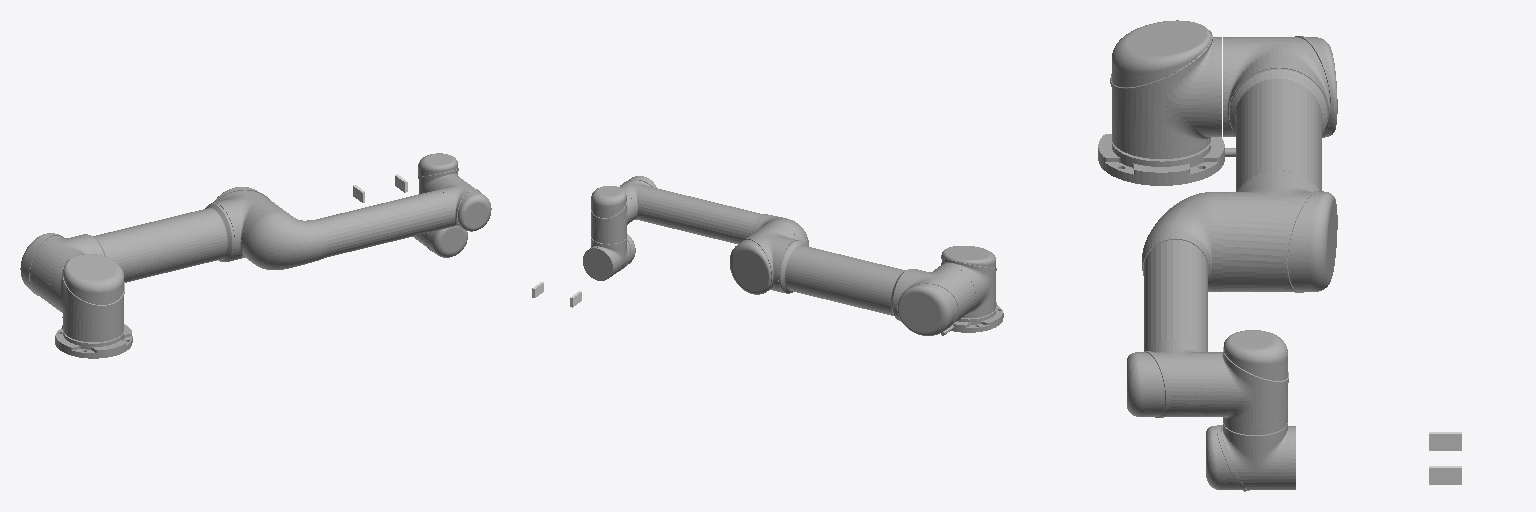
The robot description file, URDF, robot "ur5_robotiq_gripper":
<?xml version="1.0" encoding="utf-8"?>
<!-- =================================================================================== -->
<!-- |    This document was autogenerated by xacro from urdf/ur5_robotiq85_gripper.urdf.xacro | -->
<!-- |    EDITING THIS FILE BY HAND IS NOT RECOMMENDED                                 | -->
<!-- =================================================================================== -->
<robot name="ur5_robotiq_gripper">
  <mujoco>
    <compiler balanceinertia="true" discardvisual="false" meshdir="meshes_mujoco/"/>
  </mujoco>
  <!-- measured from model -->
  <link name="base_link">
    <visual>
      <origin rpy="0 0 3.14159265359" xyz="0 0 0"/>
      <geometry>
        <mesh filename="./base_visual.stl"/>
      </geometry>
      <material name="LightGrey">
        <color rgba="0.7 0.7 0.7 1.0"/>
      </material>
    </visual>
    <collision>
      <origin rpy="0 0 3.14159265359" xyz="0 0 0"/>
      <geometry>
        <mesh filename="./base.stl"/>
      </geometry>
    </collision>
    <inertial>
      <mass value="4.0"/>
      <origin rpy="0 0 0" xyz="0.0 0.0 0.0"/>
      <inertia ixx="0.00443333156" ixy="0.0" ixz="0.0" iyy="0.00443333156" iyz="0.0" izz="0.0072"/>
    </inertial>
  </link>
  <joint name="shoulder_pan_joint" type="revolute">
    <parent link="base_link"/>
    <child link="shoulder_link"/>
    <origin rpy="0 0 3.14159265359" xyz="0 0 0.089159"/>
    <axis xyz="0 0 1"/>
    <limit effort="150.0" lower="-3.14159265359" upper="3.14159265359" velocity="3.15"/>
    <dynamics damping="0.0" friction="0.0"/>
  </joint>
  <link name="shoulder_link">
    <visual>
      <origin rpy="0 0 3.14159265359" xyz="0 0 0"/>
      <geometry>
        <mesh filename="./shoulder_visual.stl"/>
      </geometry>
      <material name="LightGrey">
        <color rgba="0.7 0.7 0.7 1.0"/>
      </material>
    </visual>
    <collision>
      <origin rpy="0 0 3.14159265359" xyz="0 0 0"/>
      <geometry>
        <mesh filename="./shoulder.stl"/>
      </geometry>
    </collision>
    <inertial>
      <mass value="3.7"/>
      <origin rpy="0 0 0" xyz="0.0 0.0 0.0"/>
      <inertia ixx="0.0149723523444" ixy="0.0" ixz="0.0" iyy="0.0149723523444" iyz="0.0" izz="0.01040625"/>
    </inertial>
  </link>
  <joint name="shoulder_lift_joint" type="revolute">
    <parent link="shoulder_link"/>
    <child link="upper_arm_link"/>
    <origin rpy="1.570796327 0 0" xyz="0 0 0"/>
    <axis xyz="0 0 1"/>
    <limit effort="150.0" lower="-3.14159265359" upper="3.14159265359" velocity="3.15"/>
    <dynamics damping="0.0" friction="0.0"/>
  </joint>
  <link name="upper_arm_link">
    <visual>
      <origin rpy="1.57079632679 0 -1.57079632679" xyz="0 0 0.136"/>
      <geometry>
        <mesh filename="./upperarm_visual.stl"/>
      </geometry>
      <material name="LightGrey">
        <color rgba="0.7 0.7 0.7 1.0"/>
      </material>
    </visual>
    <collision>
      <origin rpy="1.57079632679 0 -1.57079632679" xyz="0 0 0.136"/>
      <geometry>
        <mesh filename="./upperarm.stl"/>
      </geometry>
    </collision>
    <inertial>
      <mass value="8.393"/>
      <origin rpy="0 1.57079632679 0" xyz="-0.2125 0.0 0.136"/>
      <inertia ixx="0.133885781862" ixy="0.0" ixz="0.0" iyy="0.133885781862" iyz="0.0" izz="0.0151074"/>
    </inertial>
  </link>
  <joint name="elbow_joint" type="revolute">
    <parent link="upper_arm_link"/>
    <child link="forearm_link"/>
    <origin rpy="0 0 0" xyz="-0.425 0 0"/>
    <axis xyz="0 0 1"/>
    <limit effort="150.0" lower="-3.14159265359" upper="3.14159265359" velocity="3.15"/>
    <dynamics damping="0.0" friction="0.0"/>
  </joint>
  <link name="forearm_link">
    <visual>
      <origin rpy="1.57079632679 0 -1.57079632679" xyz="0 0 0.0165"/>
      <geometry>
        <mesh filename="./forearm_visual.stl"/>
      </geometry>
      <material name="LightGrey">
        <color rgba="0.7 0.7 0.7 1.0"/>
      </material>
    </visual>
    <collision>
      <origin rpy="1.57079632679 0 -1.57079632679" xyz="0 0 0.0165"/>
      <geometry>
        <mesh filename="./forearm.stl"/>
      </geometry>
    </collision>
    <inertial>
      <mass value="2.275"/>
      <origin rpy="0 1.57079632679 0" xyz="-0.2125 0.0 0.0165"/>
      <inertia ixx="0.0312167910289" ixy="0.0" ixz="0.0" iyy="0.0312167910289" iyz="0.0" izz="0.004095"/>
    </inertial>
  </link>
  <joint name="wrist_1_joint" type="revolute">
    <parent link="forearm_link"/>
    <child link="wrist_1_link"/>
    <origin rpy="0 0 0" xyz="-0.39225 0 0.10915"/>
    <axis xyz="0 0 1"/>
    <limit effort="28.0" lower="-3.14159265359" upper="3.14159265359" velocity="3.2"/>
    <dynamics damping="0.0" friction="0.0"/>
  </joint>
  <link name="wrist_1_link">
    <visual>
      <origin rpy="1.57079632679 0 0" xyz="0 0 -0.093"/>
      <geometry>
        <mesh filename="./wrist1_visual.stl"/>
      </geometry>
      <material name="LightGrey">
        <color rgba="0.7 0.7 0.7 1.0"/>
      </material>
    </visual>
    <collision>
      <origin rpy="1.57079632679 0 0" xyz="0 0 -0.093"/>
      <geometry>
        <mesh filename="./wrist1.stl"/>
      </geometry>
    </collision>
    <inertial>
      <mass value="1.219"/>
      <origin rpy="0 0 0" xyz="0.0 0.0 0.0"/>
      <inertia ixx="0.00262426443592" ixy="0.0" ixz="0.0" iyy="0.00262426443592" iyz="0.0" izz="0.0034284375"/>
    </inertial>
  </link>
  <joint name="wrist_2_joint" type="revolute">
    <parent link="wrist_1_link"/>
    <child link="wrist_2_link"/>
    <origin rpy="1.570796327 0 0" xyz="0 -0.09465 -1.9413039509e-11"/>
    <axis xyz="0 0 1"/>
    <limit effort="28.0" lower="-3.14159265359" upper="3.14159265359" velocity="3.2"/>
    <dynamics damping="0.0" friction="0.0"/>
  </joint>
  <link name="wrist_2_link">
    <visual>
      <origin rpy="0 0 0" xyz="0 0 -0.095"/>
      <geometry>
        <mesh filename="./wrist2_visual.stl"/>
      </geometry>
      <material name="LightGrey">
        <color rgba="0.7 0.7 0.7 1.0"/>
      </material>
    </visual>
    <collision>
      <origin rpy="0 0 0" xyz="0 0 -0.095"/>
      <geometry>
        <mesh filename="./wrist2.stl"/>
      </geometry>
    </collision>
    <inertial>
      <mass value="1.219"/>
      <origin rpy="0 0 0" xyz="0.0 0.0 0.0"/>
      <inertia ixx="0.00178515266177" ixy="0.0" ixz="0.0" iyy="0.00178515266177" iyz="0.0" izz="0.0021942"/>
    </inertial>
  </link>
  <joint name="wrist_3_joint" type="revolute">
    <parent link="wrist_2_link"/>
    <child link="wrist_3_link"/>
    <origin rpy="1.57079632659 3.14159265359 3.14159265359" xyz="0 0.0823 -1.68800121668e-11"/>
    <axis xyz="0 0 1"/>
    <limit effort="28.0" lower="-3.14159265359" upper="3.14159265359" velocity="3.2"/>
    <dynamics damping="0.0" friction="0.0"/>
  </joint>
  <link name="wrist_3_link">
    <visual>
      <origin rpy="1.57079632679 0 0" xyz="0 0 -0.0818"/>
      <geometry>
        <mesh filename="./wrist3_visual.stl"/>
      </geometry>
      <material name="LightGrey">
        <color rgba="0.7 0.7 0.7 1.0"/>
      </material>
    </visual>
    <collision>
      <origin rpy="1.57079632679 0 0" xyz="0 0 -0.0823"/>
      <geometry>
        <mesh filename="./wrist3.stl"/>
      </geometry>
    </collision>
    <inertial>
      <mass value="0.1879"/>
      <origin rpy="0 0 0" xyz="0.0 0.0 -0.01525"/>
      <inertia ixx="8.06247260834e-05" ixy="0.0" ixz="0.0" iyy="8.06247260834e-05" iyz="0.0" izz="0.0001321171875"/>
    </inertial>
  </link>
  <!--
  <joint name="ee_fixed_joint" type="fixed">
    <parent link="wrist_3_link"/>
    <child link="ee_link"/>
    <origin rpy="0.0 -1.57079632679 1.57079632679" xyz="0.0 0.0 0.0"/>
  </joint>
  <link name="ee_link">
    <collision>
      <geometry>
        <box size="0.01 0.01 0.01"/>
      </geometry>
      <origin rpy="0 0 0" xyz="-0.01 0 0"/>
    </collision>
  </link>
  -->
  <joint name="wrist_3_passive_joint" type="fixed">
    <origin rpy="0 0 0" xyz="0 0 0"/>
    <parent link="wrist_3_link"/>
    <child link="tool0"/>
  </joint>
  <!-- ROS base_link to UR 'Base' Coordinates transform -->
  <link name="base"/>
  <joint name="base_link-base_fixed_joint" type="fixed">
    <!-- NOTE: this rotation is only needed as long as base_link itself is
                 not corrected wrt the real robot (ie: rotated over 180
                 degrees)
      -->
    <origin rpy="0 0 -3.14159265359" xyz="0 0 0"/>
    <parent link="base_link"/>
    <child link="base"/>
  </joint>
  <!-- Frame coincident with all-zeros TCP on UR controller -->
  <link name="tool0"/>
  <link name="robotiq_coupler">
    <visual>
      <geometry>
        <mesh filename="./robotiq_gripper_coupling.stl" scale="0.001 0.001 0.001"/>
      </geometry>
      <material name="flat_black"/>
    </visual>
    <collision>
      <geometry>
        <!--<box size="0 0 0"/>-->
        <box size="0.01 0.01 0.01"/>
      </geometry>
    </collision>
    <inertial>
      <origin rpy="0 0 0" xyz="2.073e-05   1.45286e-03  -1.1049e-03"/>
      <mass value="0.168"/>
      <inertia ixx="6.69695624e-05" ixy="5.21511788e-09" ixz="-2.74383009e-08" iyy="7.85088161e-05" iyz="5.41105193e-07" izz="1.41819717e-04"/>
    </inertial>
  </link>
  <joint name="robotiq_coupler_joint" type="fixed">
    <origin rpy="0 0 -1.57079632679" xyz="0 0 0.004"/>
    <parent link="tool0"/>
    <child link="robotiq_coupler"/>
  </joint>
  <link name="robotiq_arg2f_base_link">
    <inertial>
      <origin rpy="0 0 0" xyz="8.625E-08 -4.6583E-06 0.03145"/>
      <mass value="0.22652"/>
      <inertia ixx="0.00020005" ixy="-4.2442E-10" ixz="-2.9069E-10" iyy="0.00017832" iyz="-3.4402E-08" izz="0.00013478"/>
    </inertial>
    <visual>
      <origin rpy="0 0 0" xyz="0 0 0"/>
      <geometry>
        <mesh filename="./gripper_base_visual.stl" scale="0.001 0.001 0.001"/>
      </geometry>
      <material name="">
        <color rgba="0.1 0.1 0.1 1"/>
      </material>
    </visual>
    <collision>
      <origin rpy="0 0 0" xyz="0 0 0"/>
      <geometry>
        <mesh filename="./robotiq_arg2f_85_base_link.stl"/>
      </geometry>
    </collision>
  </link>
  <link name="left_outer_knuckle">
    <inertial>
      <origin rpy="0 0 0" xyz="-0.000200000000003065 0.0199435877845359 0.0292245259211331"/>
      <mass value="0.00853198276973456"/>
      <inertia ixx="2.89328108496468E-06" ixy="-1.57935047237397E-19" ixz="-1.93980378593255E-19" iyy="1.86719750325683E-06" iyz="-1.21858577871576E-06" izz="1.21905238907251E-06"/>
    </inertial>
    <visual>
      <origin rpy="-1.57079632679 0 0" xyz="0 0 0"/>
      <geometry>
        <mesh filename="./outer_knuckle_visual.stl" scale="0.001 0.001 0.001"/>
      </geometry>
      <material name="">
        <color rgba="0.792156862745098 0.819607843137255 0.933333333333333 1"/>
      </material>
    </visual>
    <collision>
      <origin rpy="0 0 0" xyz="0 0 0"/>
      <geometry>
        <!--<mesh filename="package://robotiq_2f_85_gripper_gazebo/meshes/collision/robotiq_arg2f_85_outer_knuckle.stl" scale="0.001 0.001 0.001"/>
          -->
        <!--<box size="0 0 0"/>-->
        <box size="0.01 0.01 0.01"/>
      </geometry>
    </collision>
  </link>
  <link name="left_outer_finger">
    <inertial>
      <origin rpy="0 0 0" xyz="0.00030115855001899 0.0373907951953854 -0.0208027427000385"/>
      <mass value="0.022614240507152"/>
      <inertia ixx="1.52518312458174E-05" ixy="9.76583423954399E-10" ixz="-5.43838577022588E-10" iyy="6.17694243867776E-06" iyz="6.78636130740228E-06" izz="1.16494917907219E-05"/>
    </inertial>
    <visual>
      <origin rpy="0 0 0" xyz="0 0 0"/>
      <geometry>
        <mesh filename="./outer_finger_visual.stl" scale="0.001 0.001 0.001"/>
      </geometry>
      <material name="">
        <color rgba="0.1 0.1 0.1 1"/>
      </material>
    </visual>
    <collision>
      <origin rpy="0 0 0" xyz="0 0 0"/>
      <geometry>
        <!--<mesh filename="package://robotiq_2f_85_gripper_gazebo/meshes/collision/robotiq_arg2f_85_outer_finger.stl" scale="0.001 0.001 0.001"/>
          -->
        <!--<box size="0 0 0"/>-->
        <box size="0.01 0.01 0.01"/>
      </geometry>
    </collision>
  </link>
  <link name="left_inner_finger">
    <inertial>
      <origin rpy="0 0 0" xyz="0.000299999999999317 0.0160078233491243 -0.0136945669206257"/>
      <mass value="0.0104003125914103"/>
      <inertia ixx="2.71909453810972E-06" ixy="1.35402465472579E-21" ixz="-7.1817349065269E-22" iyy="7.69100314106116E-07" iyz="6.74715432769696E-07" izz="2.30315190420171E-06"/>
    </inertial>
    <visual>
      <origin rpy="0 0 0" xyz="0 0 0"/>
      <geometry>
        <mesh filename="./inner_finger_visual.stl" scale="0.001 0.001 0.001"/>
      </geometry>
      <material name="">
        <color rgba="0.1 0.1 0.1 1"/>
      </material>
    </visual>
    <collision>
      <origin rpy="0 0 0" xyz="0 0 0"/>
      <geometry>
        <!--<mesh filename="package://robotiq_2f_85_gripper_gazebo/meshes/collision/robotiq_arg2f_85_inner_finger.stl" scale="0.001 0.001 0.001" />
          -->
        <!--<box size="0 0 0"/>-->
        <box size="0.01 0.01 0.01"/>
      </geometry>
    </collision>
  </link>
  <link name="left_inner_finger_pad">
    <visual>
      <origin rpy="0 0 0" xyz="0 0 0"/>
      <geometry>
        <box size="0.022 0.00635 0.0375"/>
      </geometry>
      <material name="">
        <color rgba="0.9 0.9 0.9 1"/>
      </material>
    </visual>
    <collision>
      <origin rpy="0 0 0" xyz="0 0 0"/>
      <geometry>
        <box size="0.022 0.00635 0.0375"/>
      </geometry>
      <material name="">
        <color rgba="0.9 0.0 0.0 1"/>
      </material>
    </collision>
  </link>
  <link name="left_inner_knuckle">
    <inertial>
      <origin rpy="0 0 0" xyz="0.000123011831763771 0.0507850843201817 0.00103968640075166"/>
      <mass value="0.0271177346495152"/>
      <inertia ixx="2.61910379223783E-05" ixy="-2.43616858946494E-07" ixz="-6.37789906117123E-09" iyy="2.8270243746167E-06" iyz="-5.37200748039765E-07" izz="2.83695868220296E-05"/>
    </inertial>
    <visual>
      <origin rpy="0 0 0" xyz="0 0 0"/>
      <geometry>
        <mesh filename="./inner_knuckle_visual.stl" scale="0.001 0.001 0.001"/>
      </geometry>
      <material name="">
        <color rgba="0.1 0.1 0.1 1"/>
      </material>
    </visual>
    <collision>
      <origin rpy="0 0 0" xyz="0 0 0"/>
      <geometry>
        <!--<mesh filename="package://robotiq_2f_85_gripper_gazebo/meshes/collision/robotiq_arg2f_85_inner_knuckle.stl" scale="0.001 0.001 0.001"/>
          -->
        <!--<box size="0 0 0"/>-->
        <box size="0.01 0.01 0.01"/>
      </geometry>
    </collision>
  </link>
  <link name="right_outer_knuckle">
    <inertial>
      <origin rpy="0 0 0" xyz="-0.000200000000003065 0.0199435877845359 0.0292245259211331"/>
      <mass value="0.00853198276973456"/>
      <inertia ixx="2.89328108496468E-06" ixy="-1.57935047237397E-19" ixz="-1.93980378593255E-19" iyy="1.86719750325683E-06" iyz="-1.21858577871576E-06" izz="1.21905238907251E-06"/>
    </inertial>
    <visual>
      <origin rpy="-1.57079632679 0 0" xyz="0 0 0"/>
      <geometry>
        <mesh filename="./outer_knuckle_visual.stl" scale="0.001 0.001 0.001"/>
      </geometry>
      <material name="">
        <color rgba="0.792156862745098 0.819607843137255 0.933333333333333 1"/>
      </material>
    </visual>
    <collision>
      <origin rpy="0 0 0" xyz="0 0 0"/>
      <geometry>
        <!--<mesh filename="package://robotiq_2f_85_gripper_gazebo/meshes/collision/robotiq_arg2f_85_outer_knuckle.stl" scale="0.001 0.001 0.001"/>
          -->
        <!--<box size="0 0 0"/>-->
        <box size="0.01 0.01 0.01"/>
      </geometry>
    </collision>
  </link>
  <link name="right_outer_finger">
    <inertial>
      <origin rpy="0 0 0" xyz="0.00030115855001899 0.0373907951953854 -0.0208027427000385"/>
      <mass value="0.022614240507152"/>
      <inertia ixx="1.52518312458174E-05" ixy="9.76583423954399E-10" ixz="-5.43838577022588E-10" iyy="6.17694243867776E-06" iyz="6.78636130740228E-06" izz="1.16494917907219E-05"/>
    </inertial>
    <visual>
      <origin rpy="0 0 0" xyz="0 0 0"/>
      <geometry>
        <mesh filename="./outer_finger_visual.stl" scale="0.001 0.001 0.001"/>
      </geometry>
      <material name="">
        <color rgba="0.1 0.1 0.1 1"/>
      </material>
    </visual>
    <collision>
      <origin rpy="0 0 0" xyz="0 0 0"/>
      <geometry>
        <!--<mesh filename="package://robotiq_2f_85_gripper_gazebo/meshes/collision/robotiq_arg2f_85_outer_finger.stl" scale="0.001 0.001 0.001"/>
          -->
        <!--<box size="0 0 0"/>-->
        <box size="0.01 0.01 0.01"/>
      </geometry>
    </collision>
  </link>
  <link name="right_inner_finger">
    <inertial>
      <origin rpy="0 0 0" xyz="0.000299999999999317 0.0160078233491243 -0.0136945669206257"/>
      <mass value="0.0104003125914103"/>
      <inertia ixx="2.71909453810972E-06" ixy="1.35402465472579E-21" ixz="-7.1817349065269E-22" iyy="7.69100314106116E-07" iyz="6.74715432769696E-07" izz="2.30315190420171E-06"/>
    </inertial>
    <visual>
      <origin rpy="0 0 0" xyz="0 0 0"/>
      <geometry>
        <mesh filename="./inner_finger_visual.stl" scale="0.001 0.001 0.001"/>
      </geometry>
      <material name="">
        <color rgba="0.1 0.1 0.1 1"/>
      </material>
    </visual>
    <collision>
      <origin rpy="0 0 0" xyz="0 0 0"/>
      <geometry>
        <!--<mesh filename="package://robotiq_2f_85_gripper_gazebo/meshes/collision/robotiq_arg2f_85_inner_finger.stl" scale="0.001 0.001 0.001" />
          -->
        <!--<box size="0 0 0"/>-->
        <box size="0.01 0.01 0.01"/>
      </geometry>
    </collision>
  </link>
  <link name="right_inner_finger_pad">
    <visual>
      <origin rpy="0 0 0" xyz="0 0 0"/>
      <geometry>
        <box size="0.022 0.00635 0.0375"/>
      </geometry>
      <material name="">
        <color rgba="0.9 0.9 0.9 1"/>
      </material>
    </visual>
    <collision>
      <origin rpy="0 0 0" xyz="0 0 0"/>
      <geometry>
        <box size="0.022 0.00635 0.0375"/>
      </geometry>
      <material name="">
        <color rgba="0.9 0.0 0.0 1"/>
      </material>
    </collision>
  </link>
  <link name="right_inner_knuckle">
    <inertial>
      <origin rpy="0 0 0" xyz="0.000123011831763771 0.0507850843201817 0.00103968640075166"/>
      <mass value="0.0271177346495152"/>
      <inertia ixx="2.61910379223783E-05" ixy="-2.43616858946494E-07" ixz="-6.37789906117123E-09" iyy="2.8270243746167E-06" iyz="-5.37200748039765E-07" izz="2.83695868220296E-05"/>
    </inertial>
    <visual>
      <origin rpy="0 0 0" xyz="0 0 0"/>
      <geometry>
        <mesh filename="./inner_knuckle_visual.stl" scale="0.001 0.001 0.001"/>
      </geometry>
      <material name="">
        <color rgba="0.1 0.1 0.1 1"/>
      </material>
    </visual>
    <collision>
      <origin rpy="0 0 0" xyz="0 0 0"/>
      <geometry>
        <!--<mesh filename="package://robotiq_2f_85_gripper_gazebo/meshes/collision/robotiq_arg2f_85_inner_knuckle.stl" scale="0.001 0.001 0.001"/>
          -->
        <!--<box size="0 0 0"/>-->
        <box size="0.01 0.01 0.01"/>
      </geometry>
    </collision>
  </link>
  <joint name="finger_joint" type="revolute">
    <origin rpy="0 0 3.14159265359" xyz="0 -0.0306011 0.054904"/>
    <parent link="robotiq_arg2f_base_link"/>
    <child link="left_outer_knuckle"/>
    <axis xyz="1 0 0"/>
    <limit effort="1000" lower="0" upper="0.8" velocity="2.0"/>
  </joint>
  <joint name="left_outer_finger_joint" type="fixed">
    <origin rpy="0 0 0" xyz="0 0.0315 -0.0041"/>
    <parent link="left_outer_knuckle"/>
    <child link="left_outer_finger"/>
    <axis xyz="1 0 0"/>
  </joint>
  <joint name="left_inner_knuckle_joint" type="revolute">
    <!-- <origin xyz="0 ${reflect * -0.0127} 0.06142" rpy="${pi / 2 + .725} 0 ${(reflect - 1) * pi / 2}" /> -->
    <origin rpy="0 0 3.14159265359" xyz="0 -0.0127 0.06142"/>
    <parent link="robotiq_arg2f_base_link"/>
    <child link="left_inner_knuckle"/>
    <axis xyz="1 0 0"/>
    <limit effort="1000" lower="0" upper="0.8757" velocity="2.0"/>
    <mimic joint="finger_joint" multiplier="1" offset="0"/>
  </joint>
  <joint name="left_inner_finger_joint" type="revolute">
    <origin rpy="0 0 0" xyz="0 0.0061 0.0471"/>
    <parent link="left_outer_finger"/>
    <child link="left_inner_finger"/>
    <axis xyz="1 0 0"/>
    <limit effort="1000" lower="-0.8757" upper="0" velocity="2.0"/>
    <mimic joint="finger_joint" multiplier="-1" offset="0"/>
  </joint>
  <joint name="left_inner_finger_pad_joint" type="fixed">
    <origin rpy="0 0 0" xyz="0 -0.0220203446692936 0.03242"/>
    <parent link="left_inner_finger"/>
    <child link="left_inner_finger_pad"/>
    <axis xyz="0 0 1"/>
  </joint>
  <joint name="right_outer_knuckle_joint" type="revolute">
    <origin rpy="0 0 0" xyz="0 0.0306011 0.054904"/>
    <parent link="robotiq_arg2f_base_link"/>
    <child link="right_outer_knuckle"/>
    <axis xyz="1 0 0"/>
    <limit effort="1000" lower="0" upper="0.81" velocity="2.0"/>
    <mimic joint="finger_joint" multiplier="1" offset="0"/>
  </joint>
  <joint name="right_outer_finger_joint" type="fixed">
    <origin rpy="0 0 0" xyz="0 0.0315 -0.0041"/>
    <parent link="right_outer_knuckle"/>
    <child link="right_outer_finger"/>
    <axis xyz="1 0 0"/>
  </joint>
  <joint name="right_inner_knuckle_joint" type="revolute">
    <!-- <origin xyz="0 ${reflect * -0.0127} 0.06142" rpy="${pi / 2 + .725} 0 ${(reflect - 1) * pi / 2}" /> -->
    <origin rpy="0 0 0.0" xyz="0 0.0127 0.06142"/>
    <parent link="robotiq_arg2f_base_link"/>
    <child link="right_inner_knuckle"/>
    <axis xyz="1 0 0"/>
    <limit effort="1000" lower="0" upper="0.8757" velocity="2.0"/>
    <mimic joint="finger_joint" multiplier="1" offset="0"/>
  </joint>
  <joint name="right_inner_finger_joint" type="revolute">
    <origin rpy="0 0 0" xyz="0 0.0061 0.0471"/>
    <parent link="right_outer_finger"/>
    <child link="right_inner_finger"/>
    <axis xyz="1 0 0"/>
    <limit effort="1000" lower="-0.8757" upper="0" velocity="2.0"/>
    <mimic joint="finger_joint" multiplier="-1" offset="0"/>
  </joint>
  <joint name="right_inner_finger_pad_joint" type="fixed">
    <origin rpy="0 0 0" xyz="0 -0.0220203446692936 0.03242"/>
    <parent link="right_inner_finger"/>
    <child link="right_inner_finger_pad"/>
    <axis xyz="0 0 1"/>
  </joint>
  <joint name="robotiq_85_base_joint" type="fixed">
    <origin rpy="0 0 0" xyz="0 0 0.004"/>
    <parent link="robotiq_coupler"/>
    <child link="robotiq_arg2f_base_link"/>
  </joint>
</robot>

--- Facts derived from the render (not from the file) ---
The picture shows the robot from 3 angles, left to right: view 1: azimuth 30°, elevation 25°; view 2: azimuth 150°, elevation 25°; view 3: azimuth 270°, elevation 25°; orthographic projection.
Model ur5_robotiq_gripper with 21 links and 20 joints (12 revolute, 8 fixed), rooted at base_link, posed all joints at 0.
Visible links, largest first — view 1: upper_arm_link, forearm_link, shoulder_link, base_link, wrist_1_link, wrist_2_link; view 2: upper_arm_link, forearm_link, shoulder_link, wrist_1_link, wrist_2_link, base_link; view 3: upper_arm_link, forearm_link, shoulder_link, wrist_1_link, wrist_2_link, base_link, left_inner_finger_pad, right_inner_finger_pad.
Boxes of the visible links, x1,y1,x2,y2 form: upper_arm_link: (20, 187, 282, 306); forearm_link: (243, 177, 491, 269); shoulder_link: (49, 254, 124, 341); base_link: (55, 317, 132, 358); wrist_1_link: (418, 153, 459, 193); wrist_2_link: (413, 226, 467, 257); upper_arm_link: (730, 223, 975, 335); forearm_link: (620, 176, 808, 246); shoulder_link: (938, 246, 996, 317); wrist_1_link: (591, 186, 634, 243); wrist_2_link: (583, 234, 635, 280); base_link: (941, 302, 1003, 335); upper_arm_link: (1223, 36, 1337, 292); forearm_link: (1127, 192, 1222, 417); shoulder_link: (1110, 20, 1221, 158); wrist_1_link: (1216, 330, 1288, 434); wrist_2_link: (1206, 423, 1295, 491); base_link: (1098, 134, 1235, 185); left_inner_finger_pad: (1429, 466, 1461, 484); right_inner_finger_pad: (1429, 432, 1461, 450).
Bounding box of the posed robot: 0.94 × 0.4219 × 0.2016 m (x, y, z).
6 mesh visuals loaded from 13 distinct referenced files (6 binary STL); not drawn: 11 (reference not matched to a file when rendering).